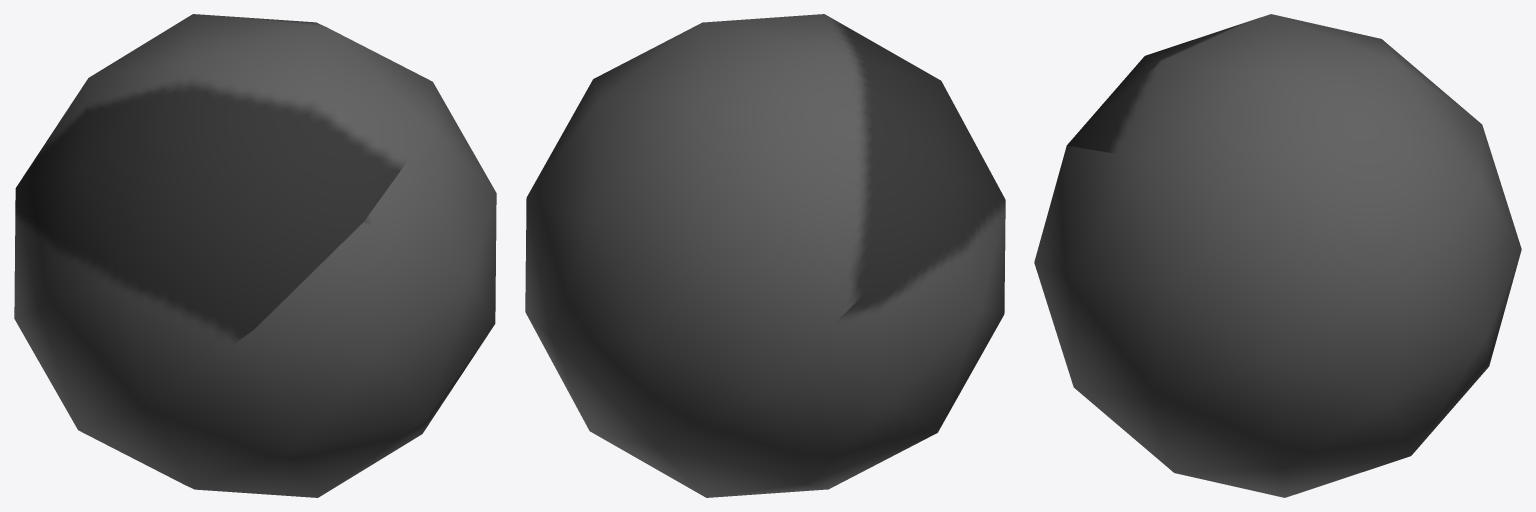
Rendered from bubble.fbx.
3 renders of one model, left to right at view 1: azimuth 30°, elevation 25°; view 2: azimuth 150°, elevation 25°; view 3: azimuth 270°, elevation 25°, orthographic. The views are drawn at different scales.
Visible parts, largest first — view 1: bubble2; view 2: bubble2; view 3: bubble2.
Part boxes in pixels (x1,y1,x2,y2): bubble2: (14,14,496,497); bubble2: (525,14,1005,497); bubble2: (1034,14,1521,497).
Bounding box in the file's own units: 153 × 146 × 153.
